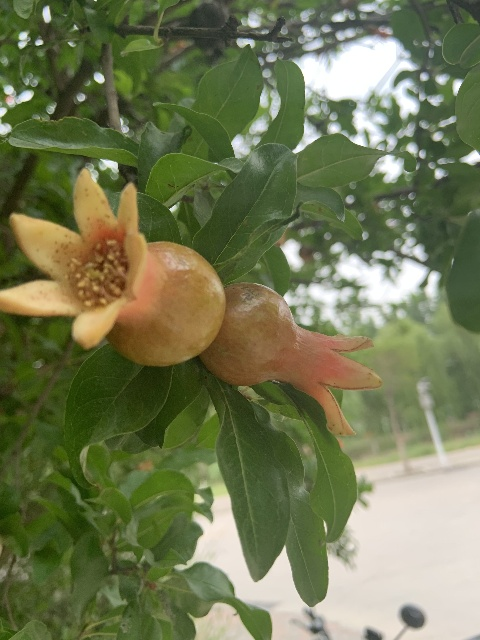early-fruit: (0, 166, 223, 366), (202, 283, 382, 440)
